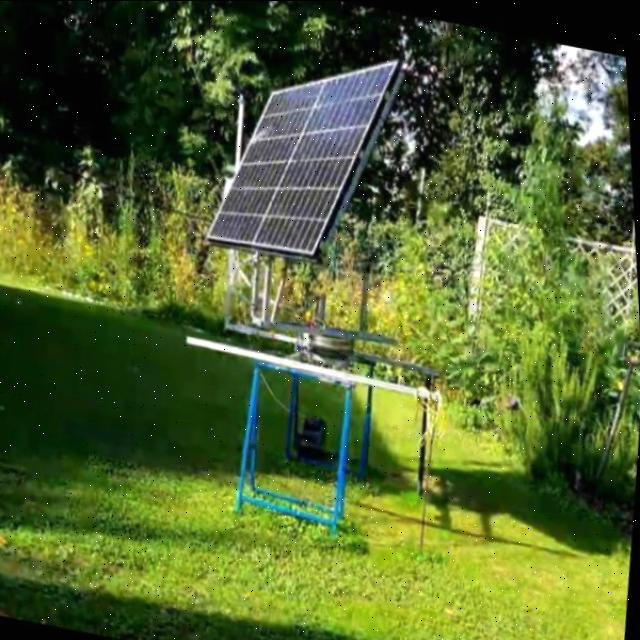Normal Solar Panel: (202, 22, 412, 270)
